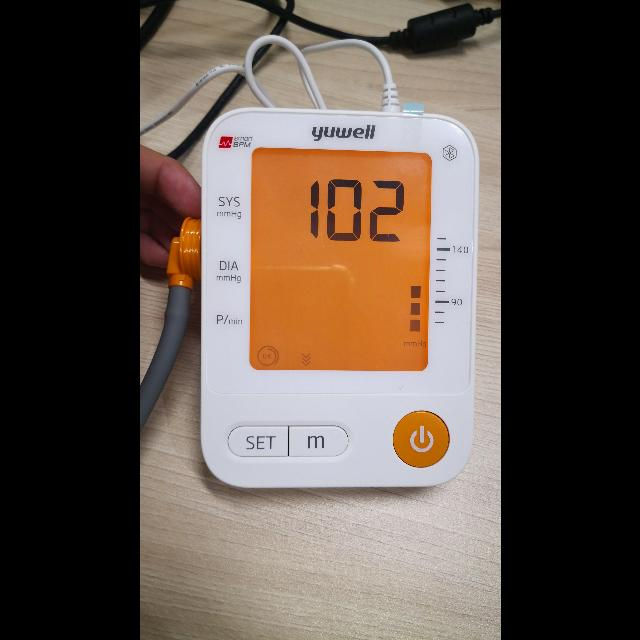Blood-Pressure-Monitor: (200, 109, 478, 488)
